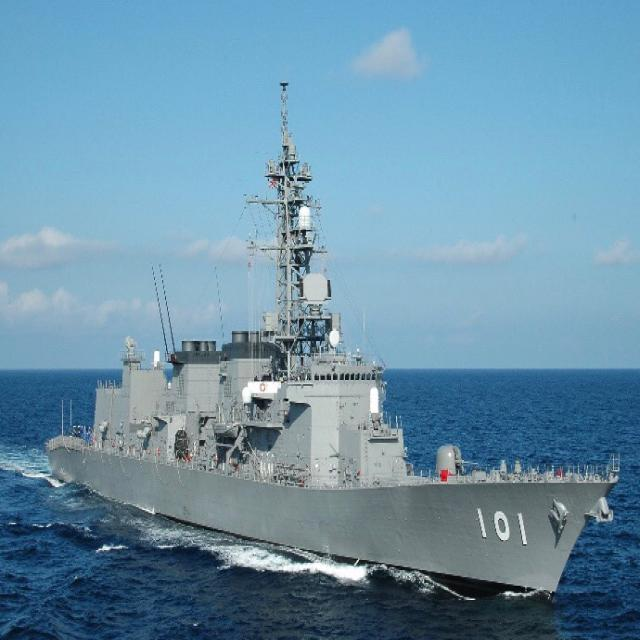navalvessels: (40, 105, 623, 602)
